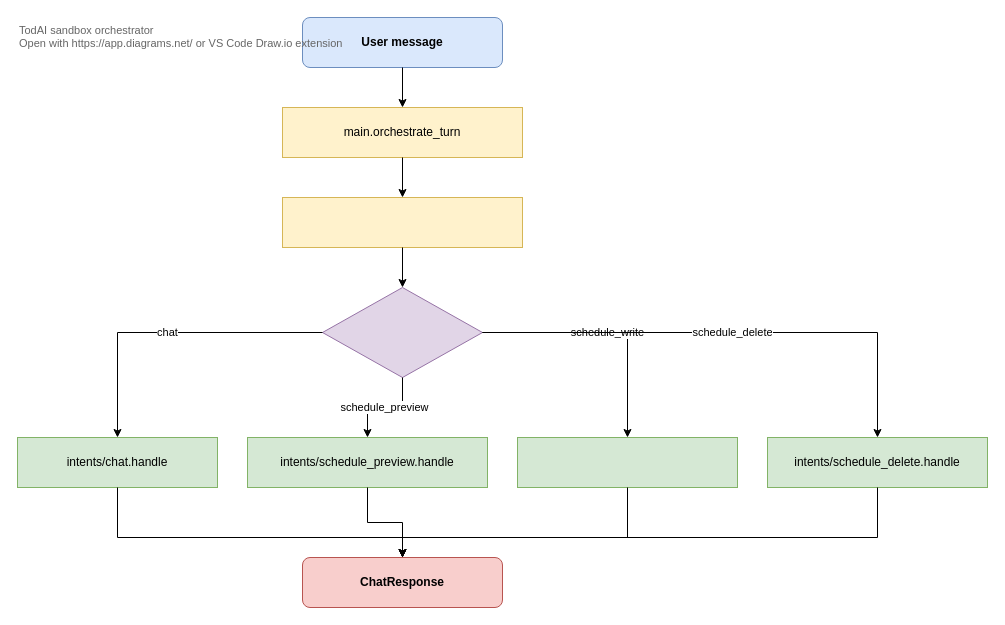
This 1005x625 diagram has some shape labels left out. Here are the shapes that lost their labels. From the top down, the centre of each, then its label:
At (x=402, y=222): "router.run_router".
At (x=402, y=332): "{intent}".
At (x=627, y=462): "intents/schedule_write.handle".
